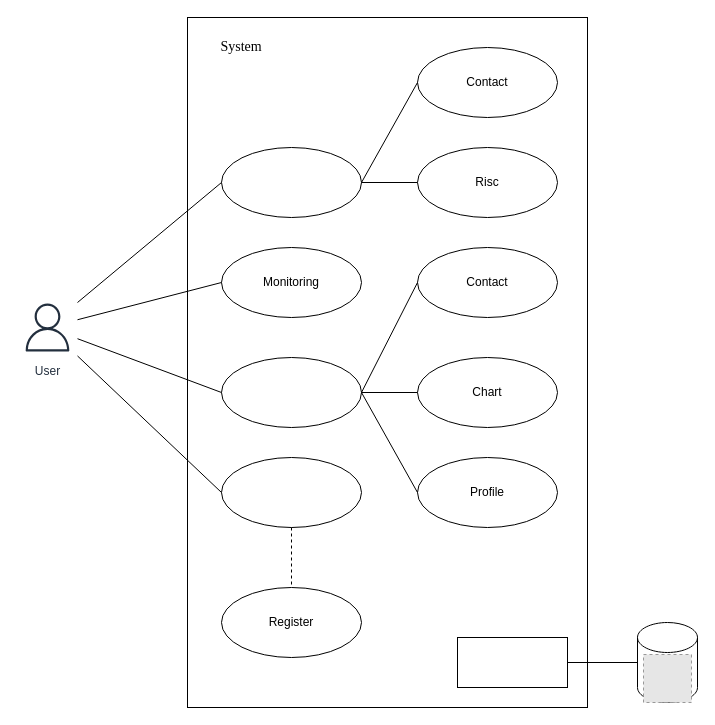
The diagram is 715 pixels wide and 725 high, and some of its shapes have lost their labels. Grey dashed boxes stand in for pictures. Here are the shapes that lost their labels. From the top down, the centre of each, then its label:
At [291,182]: "Insert data".
At [291,392]: "Read data".
At [291,492]: "Login".
At [512,662]: "«interface» Database".
